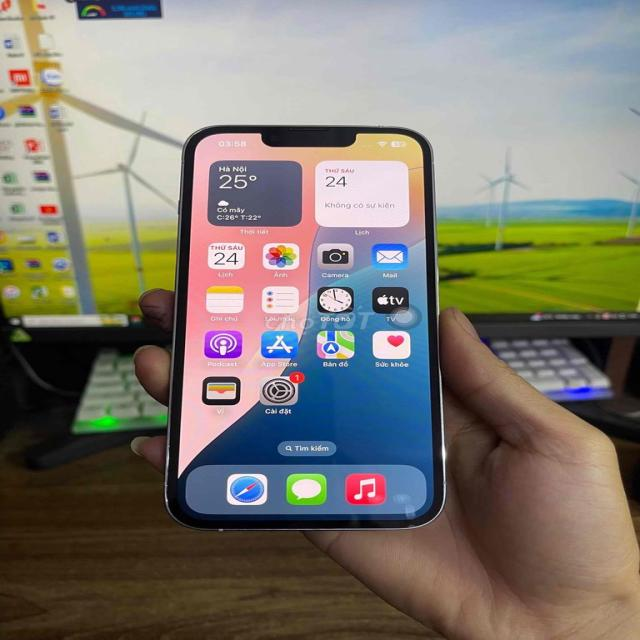gen_12_13: (163, 117, 459, 538)
